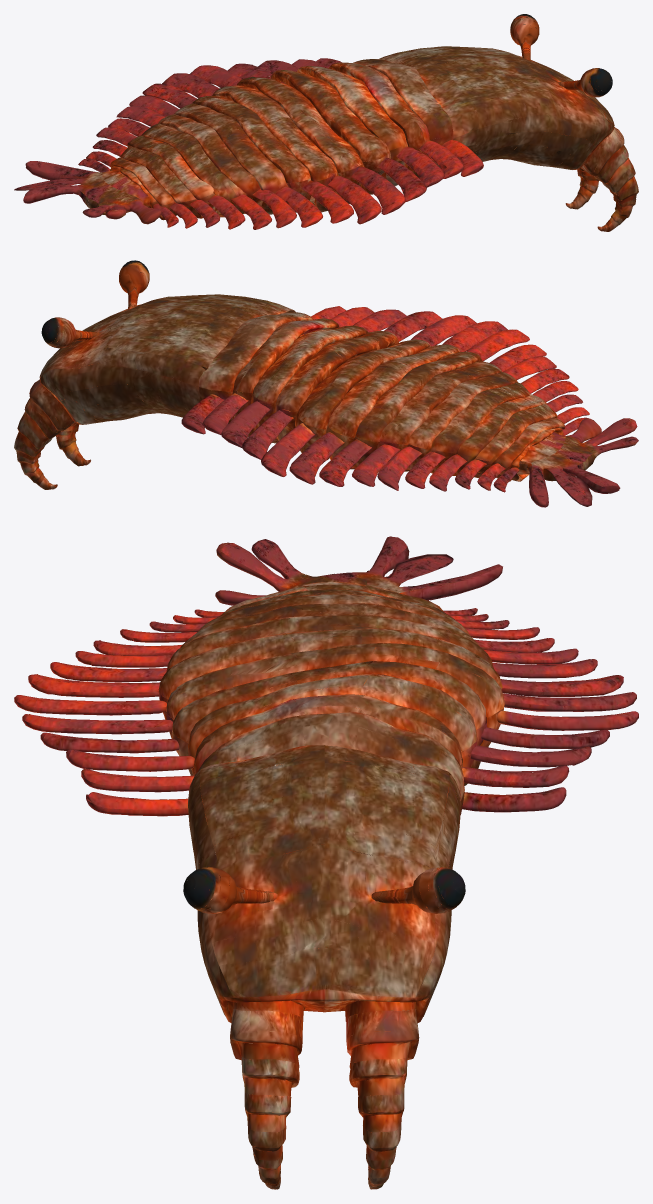
The model's file is anomalocaris.glb.
The picture shows the model from 3 angles, top to bottom: view 1: azimuth 30°, elevation 25°; view 2: azimuth 150°, elevation 25°; view 3: azimuth 270°, elevation 25°; orthographic projection. The views are drawn at different scales.
Parts seen in each view (by area): view 1: Plane.003_Material_0; view 2: Plane.003_Material_0; view 3: Plane.003_Material_0.
Part boxes in pixels (x1,y1,x2,y2): Plane.003_Material_0: (14, 14, 638, 231); Plane.003_Material_0: (14, 260, 638, 507); Plane.003_Material_0: (14, 536, 638, 1189).
Bounding box in the file's own units: 2 × 0.663 × 1.18.
Materials: 1 (1 with a texture image).
